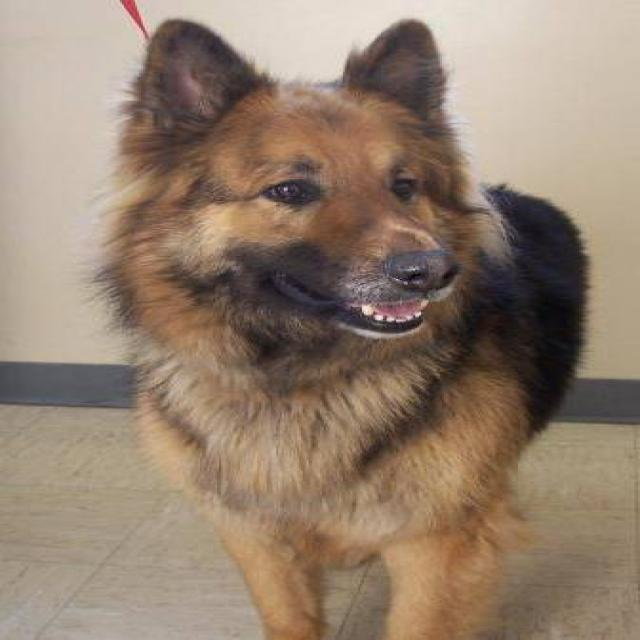dogs: (110, 0, 608, 640)
